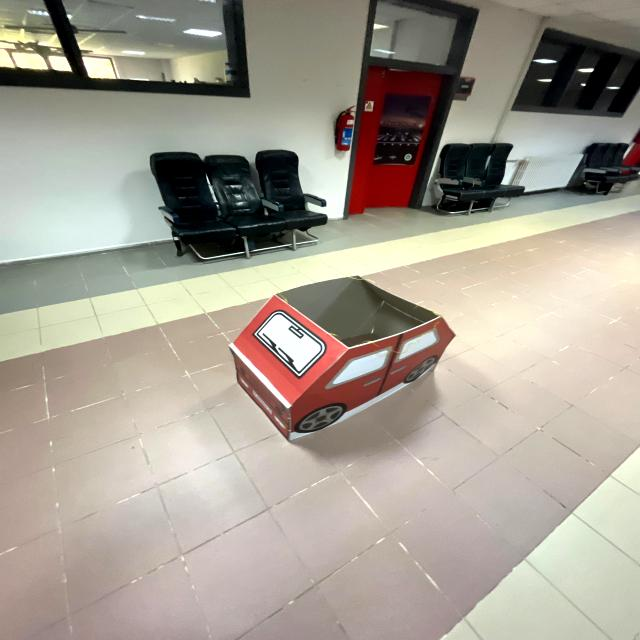red_car: (221, 269, 472, 450)
